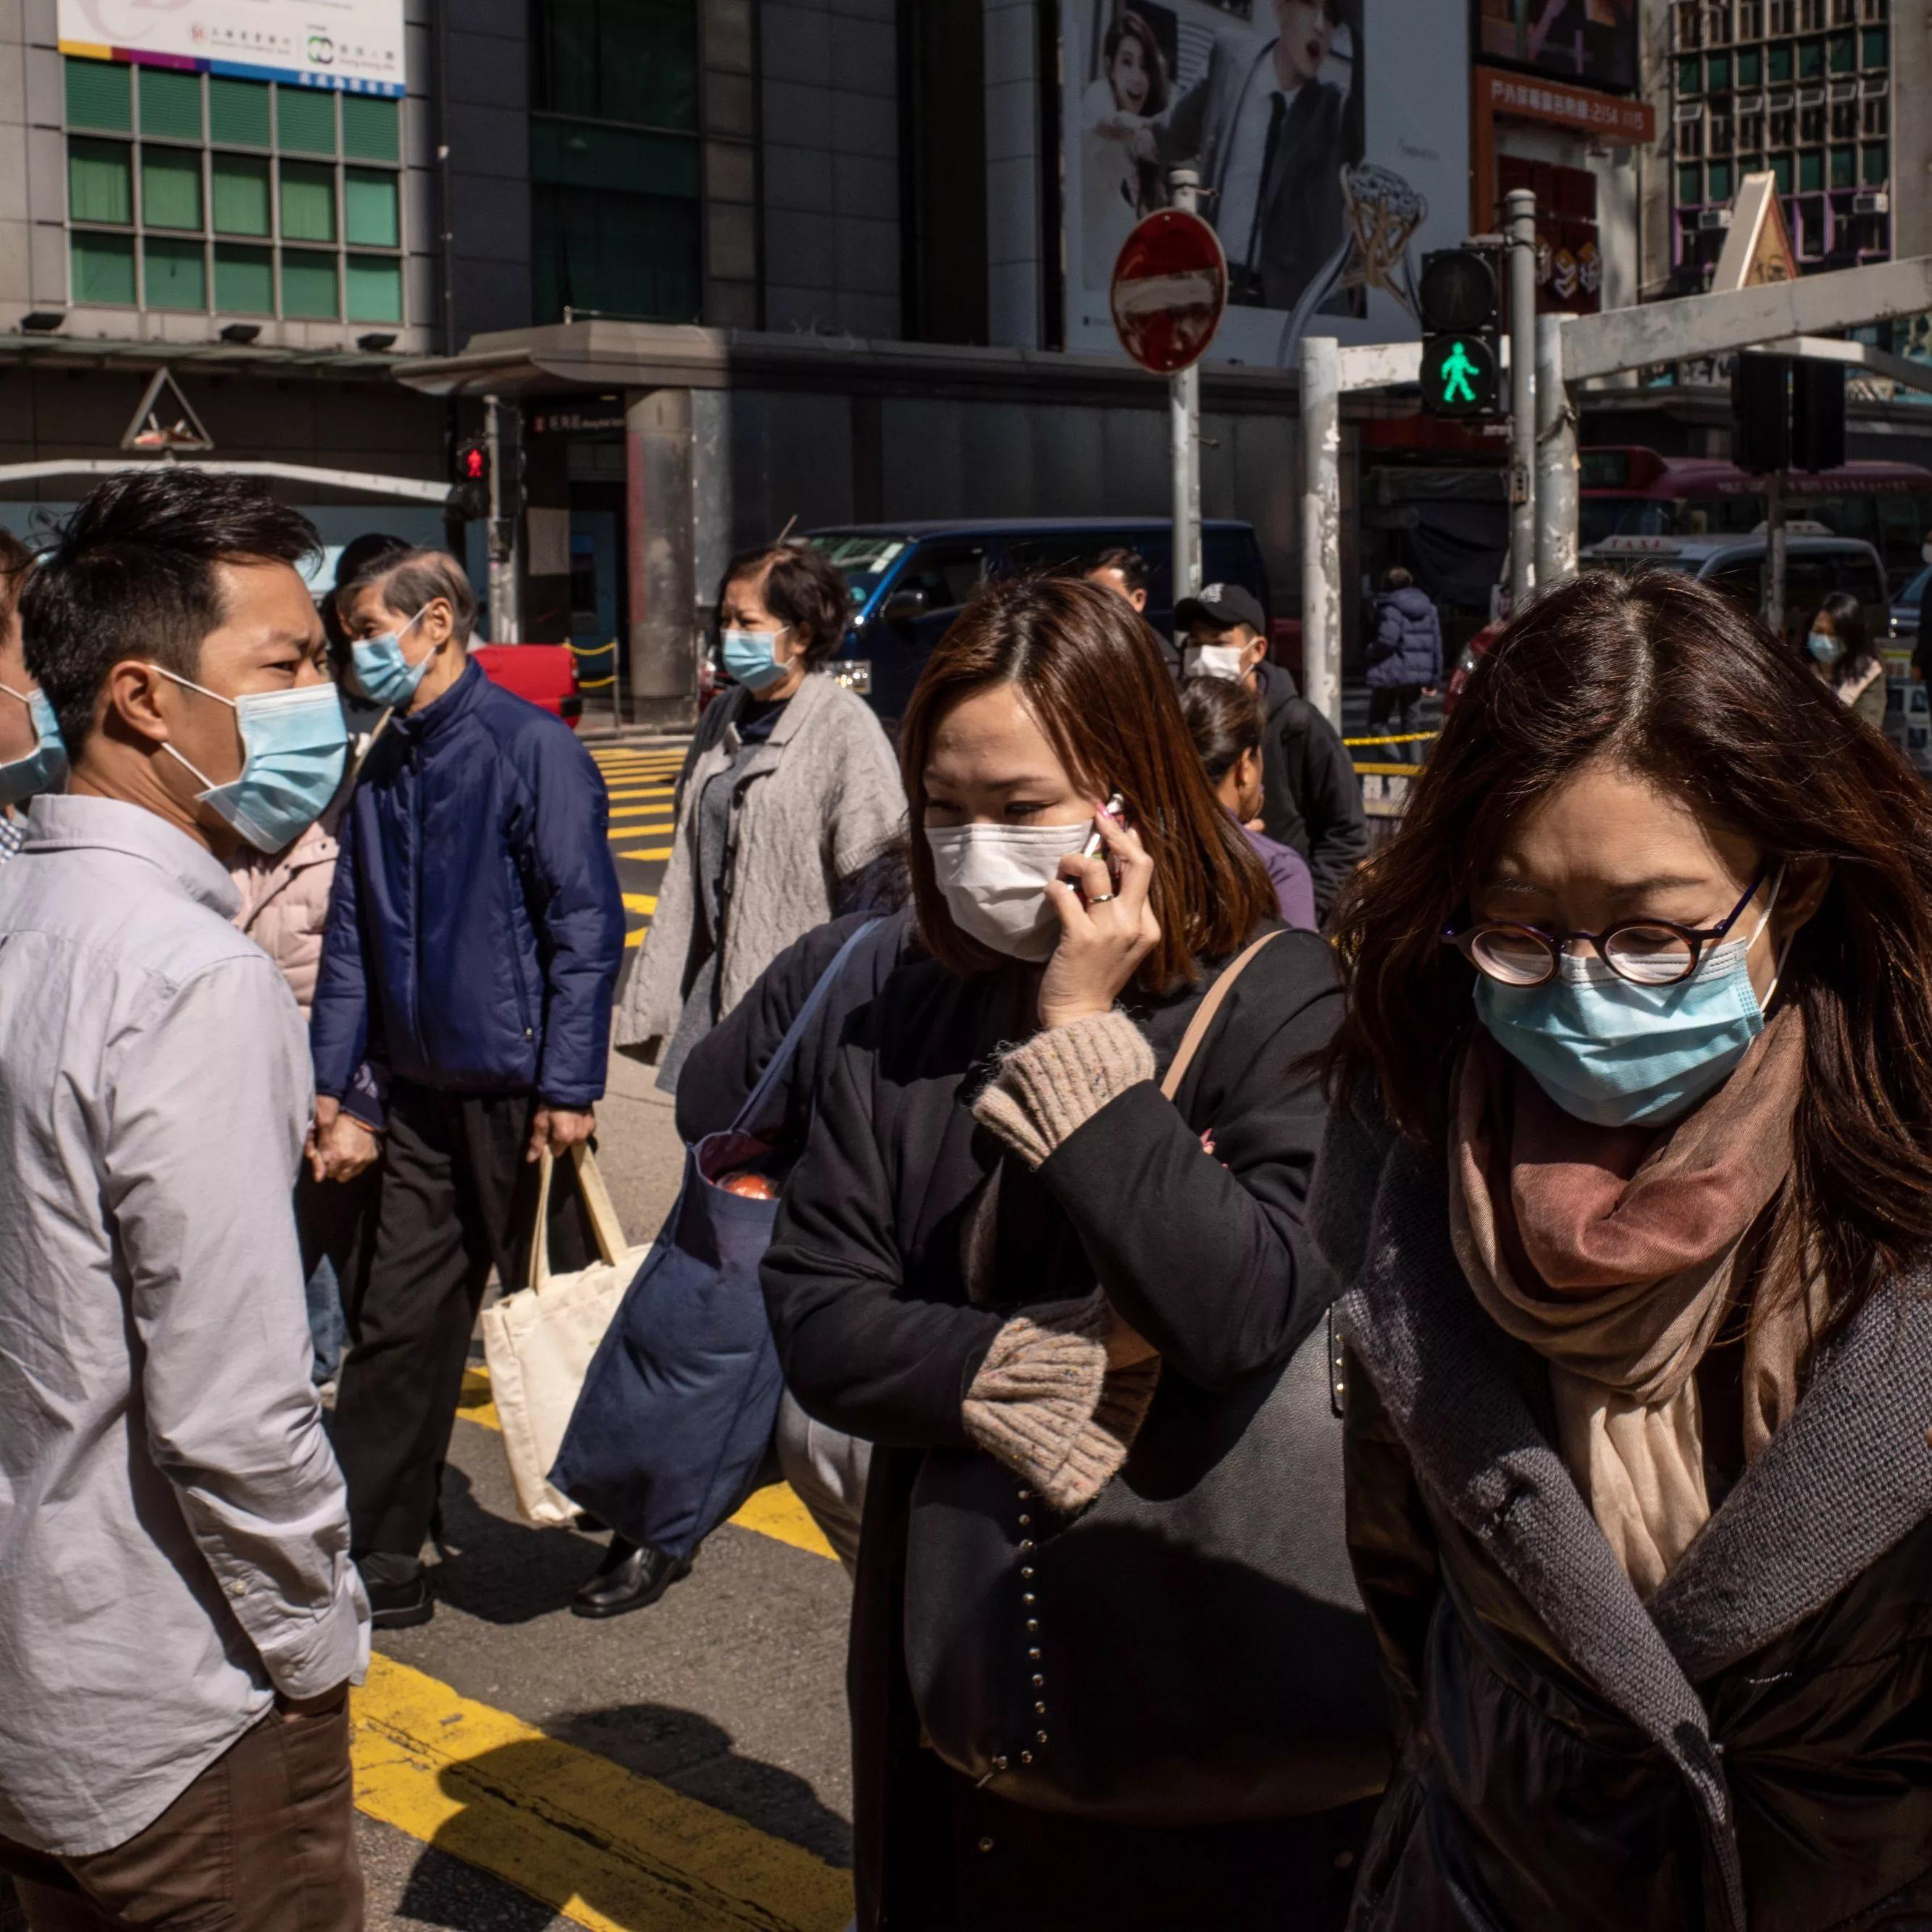correctlyWear: (1470, 775, 1778, 1132), (922, 699, 1152, 970), (108, 602, 347, 860), (0, 580, 73, 816), (334, 557, 442, 704), (717, 573, 809, 702), (1178, 612, 1263, 709), (1803, 596, 1856, 663)
